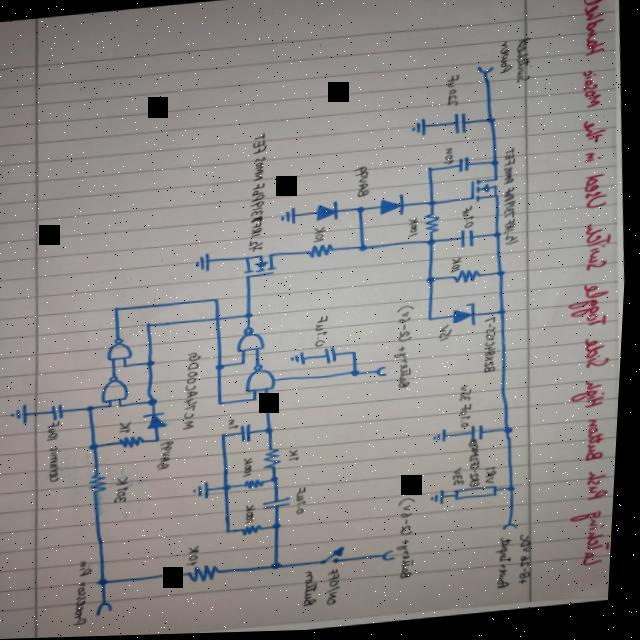capacitor: (265, 498, 297, 512), (451, 114, 469, 138), (459, 232, 479, 251), (52, 403, 70, 421), (242, 425, 258, 445), (325, 348, 342, 366), (472, 427, 489, 444), (457, 159, 471, 176)
crossover: (215, 317, 225, 323)
diode: (378, 195, 408, 220), (453, 305, 480, 331), (315, 203, 342, 225), (146, 411, 174, 432)
ground: (12, 404, 34, 427), (195, 253, 214, 275), (195, 482, 215, 501), (280, 209, 300, 228), (410, 120, 428, 139), (292, 352, 311, 369), (433, 492, 451, 509), (434, 432, 453, 447)
junction: (100, 578, 116, 589), (273, 562, 289, 573), (148, 398, 163, 408), (426, 277, 440, 287), (485, 118, 499, 128), (146, 359, 160, 369), (244, 312, 258, 322), (425, 240, 440, 249), (217, 364, 230, 374), (509, 487, 522, 497), (496, 271, 509, 281), (352, 371, 366, 380), (498, 310, 510, 320), (225, 484, 238, 493), (276, 523, 287, 533), (266, 428, 278, 437), (493, 233, 504, 242), (273, 477, 284, 485), (357, 207, 367, 215), (429, 201, 439, 209), (89, 405, 99, 413), (114, 306, 124, 314), (214, 297, 224, 305), (360, 246, 370, 254), (92, 444, 103, 451), (426, 169, 436, 176), (507, 430, 517, 437), (491, 163, 500, 170), (223, 433, 232, 440), (228, 529, 237, 536), (428, 318, 437, 325), (353, 351, 361, 358), (219, 402, 227, 409), (254, 398, 262, 405), (242, 361, 250, 368), (147, 323, 155, 330), (121, 403, 129, 409), (157, 438, 165, 444), (124, 365, 132, 370), (111, 405, 117, 409)
resistor: (457, 488, 504, 505), (191, 565, 227, 584), (453, 271, 485, 288), (308, 244, 337, 261), (91, 473, 113, 494), (266, 449, 286, 471), (121, 436, 150, 450), (424, 215, 442, 237), (244, 525, 267, 538), (247, 480, 270, 491)
switch: (322, 548, 352, 569)
terminal: (100, 601, 120, 617), (475, 67, 496, 79), (505, 524, 523, 536), (385, 552, 401, 565), (377, 368, 391, 379)
text: (533, 0, 640, 572), (241, 133, 276, 255), (497, 149, 525, 253), (180, 353, 210, 432), (74, 560, 104, 628), (481, 318, 504, 377), (497, 539, 521, 593), (518, 535, 541, 590), (394, 347, 421, 392), (512, 41, 535, 87), (400, 541, 425, 582), (470, 440, 489, 491), (401, 499, 424, 539), (398, 307, 420, 345), (328, 570, 348, 608), (306, 572, 326, 609), (496, 42, 515, 78), (50, 445, 68, 483), (353, 167, 373, 201), (159, 441, 180, 471), (443, 77, 462, 110), (315, 317, 333, 350), (116, 477, 137, 505), (298, 488, 315, 517), (461, 406, 478, 431), (461, 208, 478, 232), (48, 422, 65, 443), (190, 546, 206, 568), (455, 469, 471, 490), (439, 327, 456, 345), (488, 469, 503, 489), (408, 219, 422, 240), (245, 457, 259, 478), (442, 149, 457, 168), (247, 505, 262, 524), (313, 228, 329, 245), (450, 259, 466, 276), (461, 387, 476, 404), (122, 422, 136, 435), (291, 450, 304, 464), (230, 420, 244, 431)
transistor: (238, 252, 281, 281), (470, 179, 502, 206)
